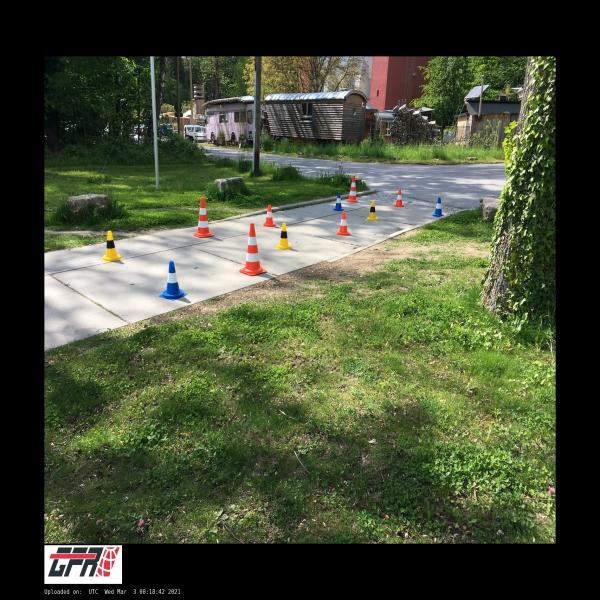blue_cone: (158, 261, 187, 300), (332, 192, 344, 211), (432, 197, 443, 217)
large_orange_cone: (238, 223, 266, 276), (193, 198, 214, 238), (347, 176, 358, 202)
orange_cone: (336, 212, 352, 236), (263, 205, 275, 226), (393, 190, 405, 207)
yellow_cone: (100, 230, 122, 261), (276, 223, 291, 250), (366, 201, 378, 221)
